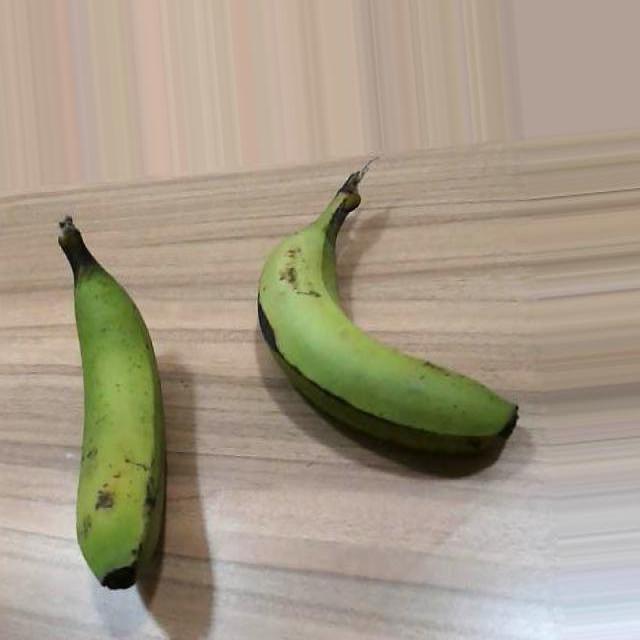Unripe: (257, 159, 521, 472), (56, 215, 167, 589)
